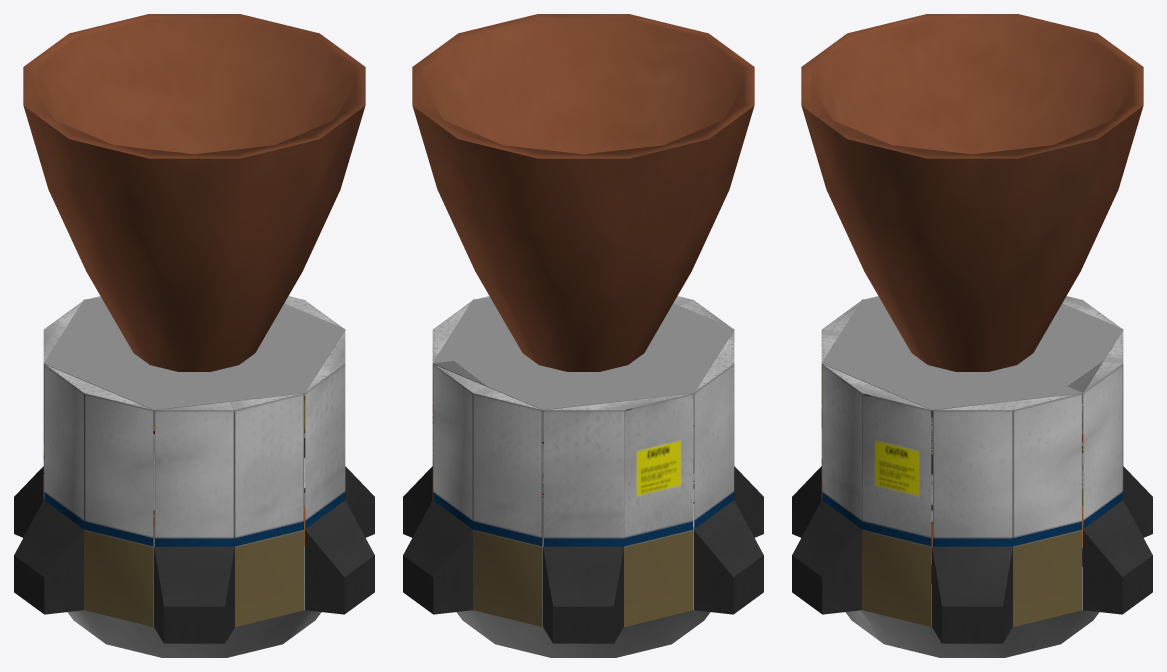
Rendered from ArcJetRCS.FBX.
3 views of the same model, side by side, from view 1: azimuth 30°, elevation 25°; view 2: azimuth 150°, elevation 25°; view 3: azimuth 270°, elevation 25° (orthographic).
Visible parts, largest first — view 1: Cylinder003, Cylinder001, Cylinder002; view 2: Cylinder003, Cylinder001, Cylinder002; view 3: Cylinder003, Cylinder001, Cylinder002.
Boxes of the visible parts, x1,y1,x2,y2 form: Cylinder003: (23,14,365,371); Cylinder001: (14,296,374,657); Cylinder002: (43,297,345,626); Cylinder003: (412,14,754,371); Cylinder001: (403,296,763,657); Cylinder002: (432,297,734,626); Cylinder003: (801,14,1143,371); Cylinder001: (792,296,1152,657); Cylinder002: (821,297,1123,626).
Bounding box in the file's own units: 0.3814 × 0.3607 × 0.5743.
1 material, 1 textured.
